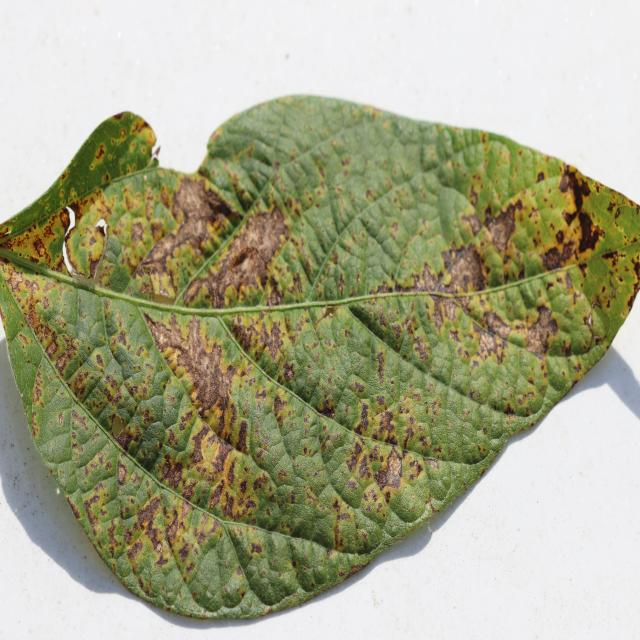Bacterial_Blight: (422, 165, 626, 369), (139, 303, 317, 476), (176, 198, 295, 307), (412, 244, 504, 314), (231, 305, 309, 384), (342, 427, 414, 512), (15, 283, 75, 364), (552, 167, 605, 257), (183, 331, 236, 416), (121, 487, 173, 564), (172, 175, 239, 234), (14, 207, 75, 269), (136, 231, 182, 293), (145, 311, 193, 360), (169, 209, 214, 259), (485, 203, 520, 251), (189, 424, 215, 466), (159, 461, 184, 492), (24, 307, 47, 335), (60, 201, 82, 229), (126, 539, 145, 564), (9, 271, 28, 293), (209, 483, 224, 510), (131, 221, 145, 246), (376, 350, 386, 384)
Soybean: (0, 96, 640, 619)
